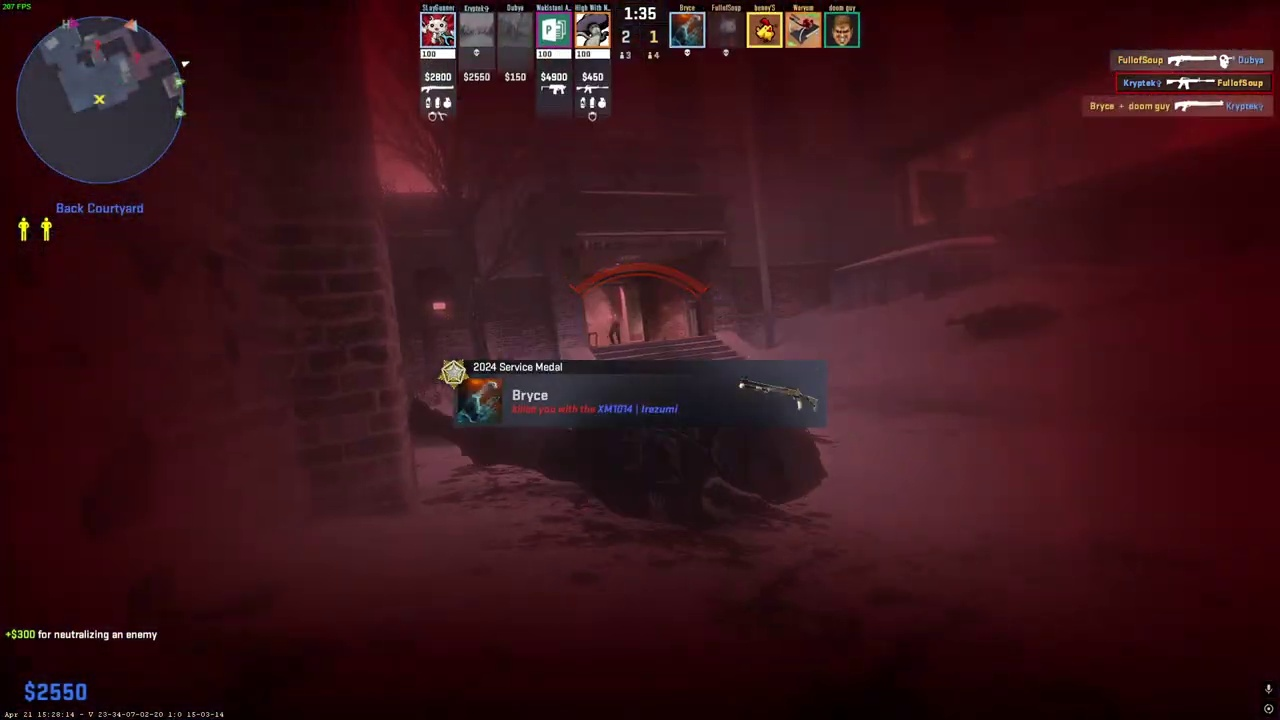Terrorist: (606, 313, 621, 345)
